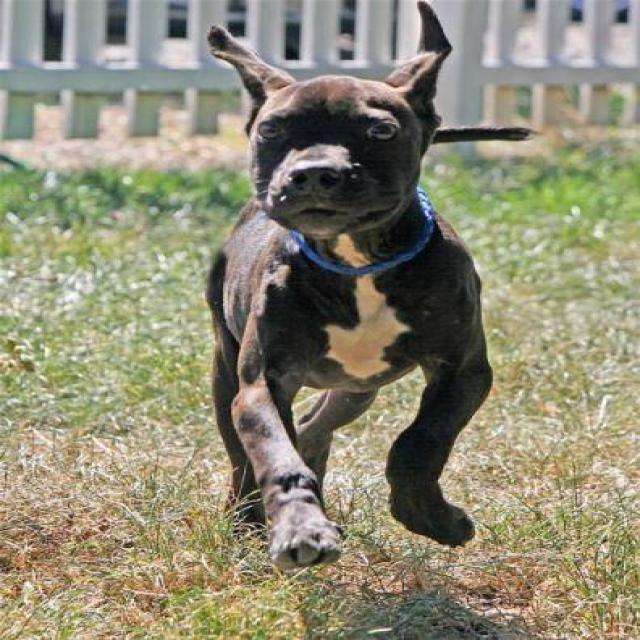dogs: (200, 2, 501, 600)
